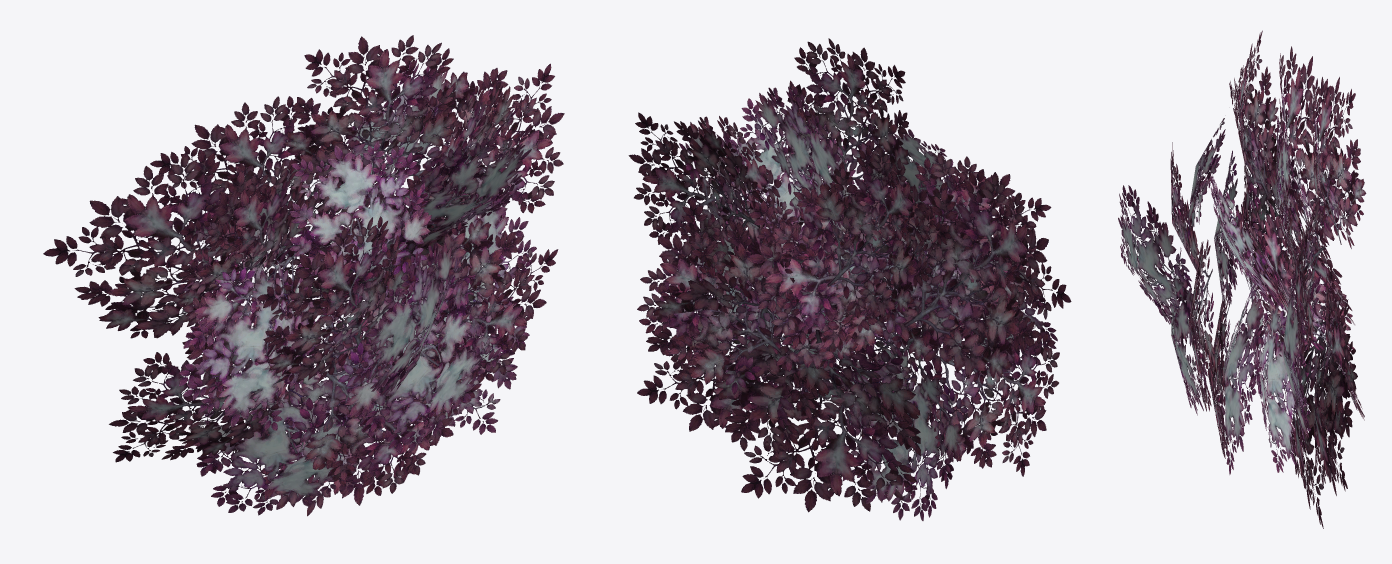
File: WBJ_079.obj
3 renders of one model, left to right at view 1: azimuth 30°, elevation 25°; view 2: azimuth 150°, elevation 25°; view 3: azimuth 270°, elevation 25°, orthographic. The views are drawn at different scales.
Parts seen in each view (by area): view 1: WBJ_079; view 2: WBJ_079; view 3: WBJ_079.
Part boxes in pixels (box(x1,y1,x2,y2)): WBJ_079: box(43, 35, 564, 516); WBJ_079: box(628, 38, 1071, 520); WBJ_079: box(1118, 30, 1366, 528).
Bounding box in the file's own units: 565 × 515 × 261.
Materials: 1 (1 with a texture image).
